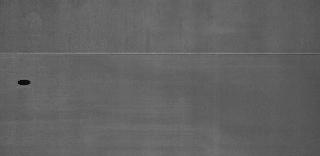punching hole: (16, 77, 32, 87)
welding line: (2, 49, 318, 61)
